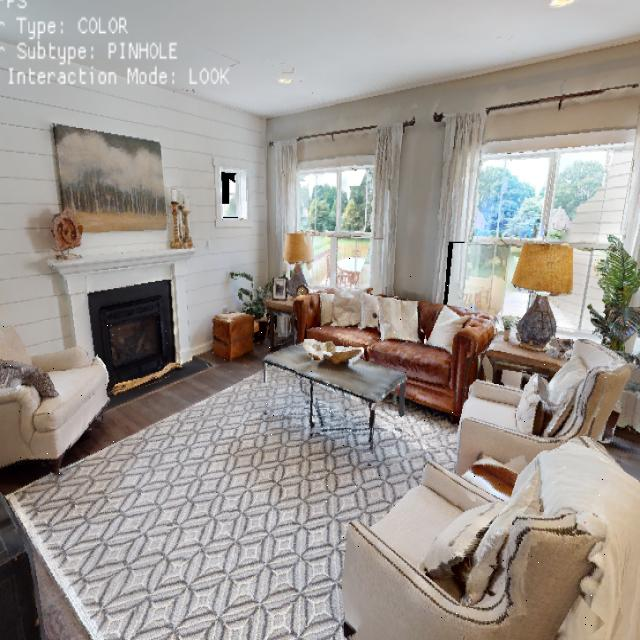sofa: (313, 443, 608, 640), (296, 258, 477, 428), (451, 325, 640, 466), (0, 295, 115, 475)
table: (243, 318, 410, 452)
